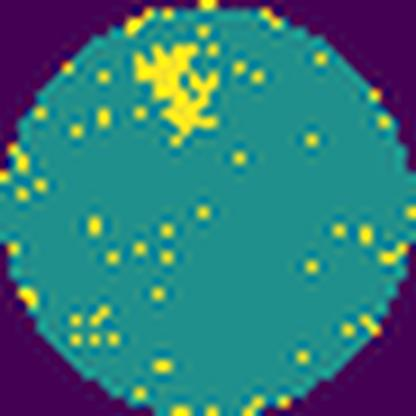Loc: (128, 41, 222, 148)
